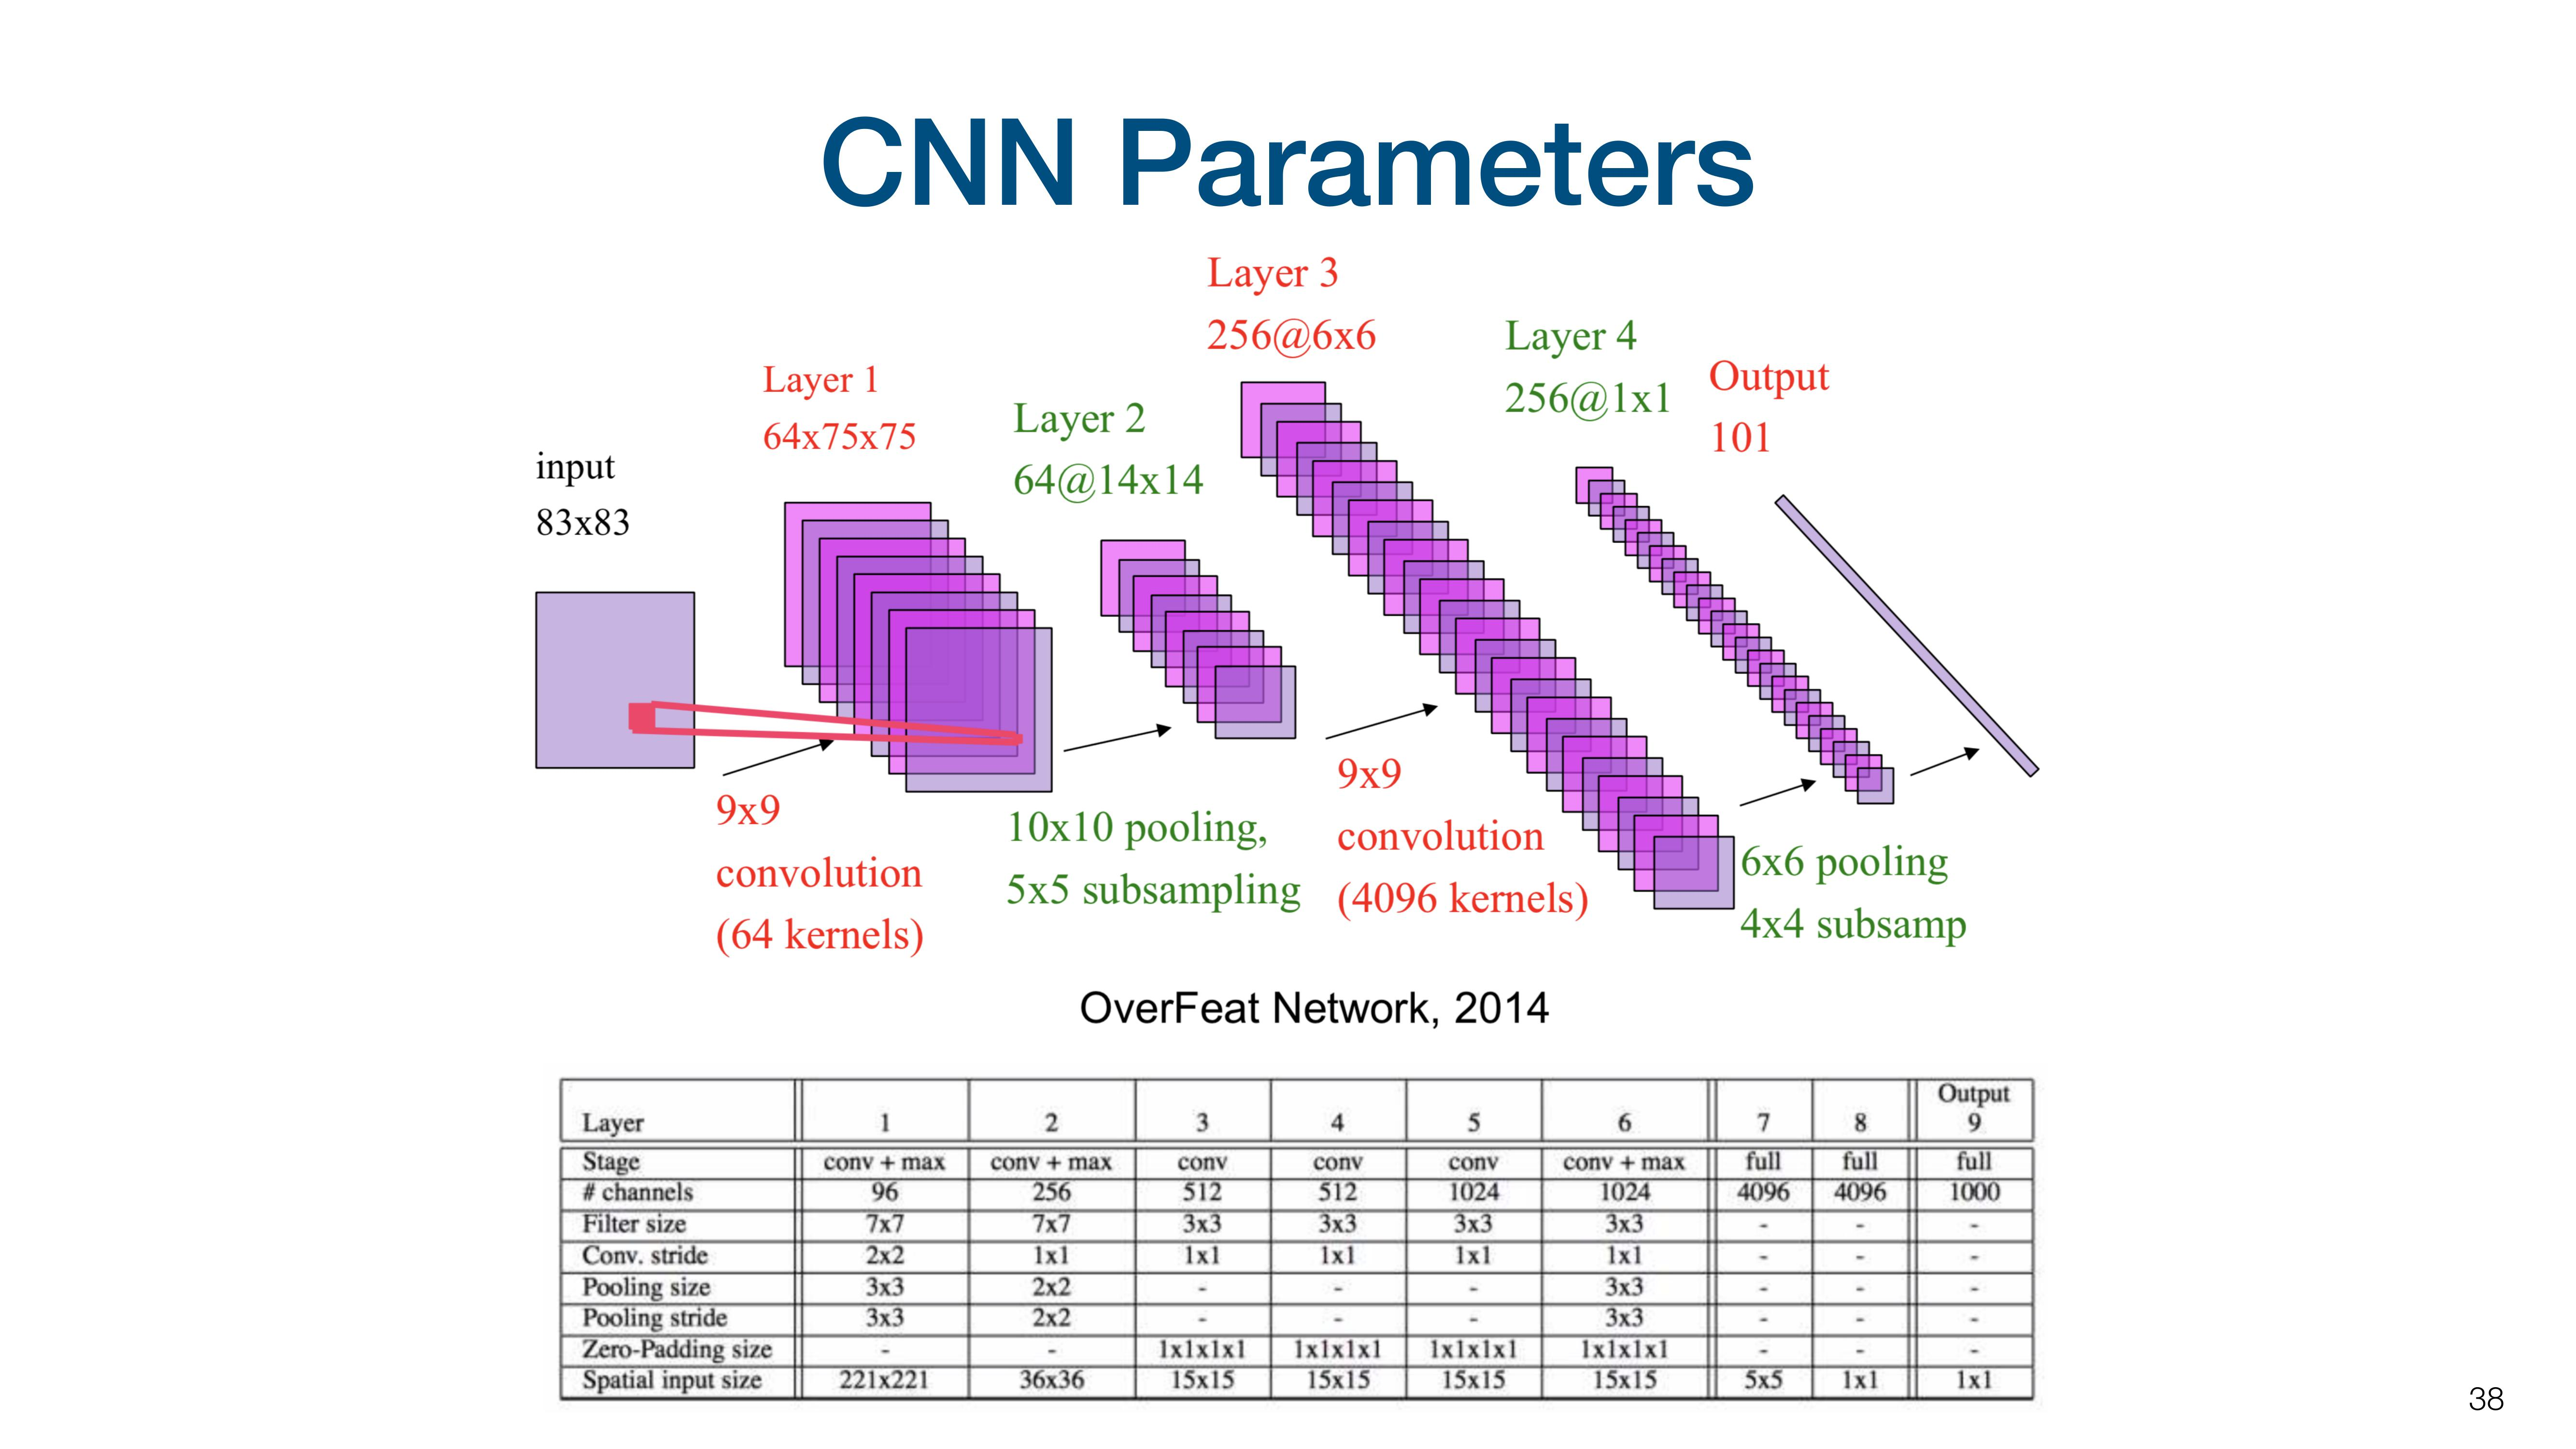Title: (801, 92, 1764, 248)
